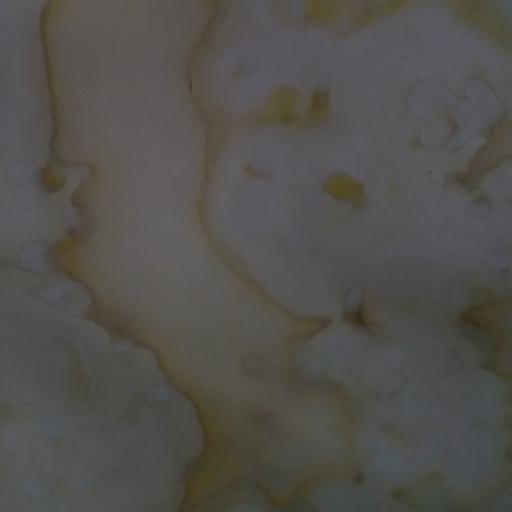algae: (36, 0, 403, 504)
